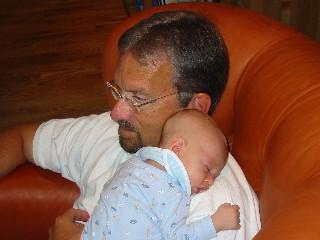person: (1, 9, 263, 240), (80, 108, 243, 240)
